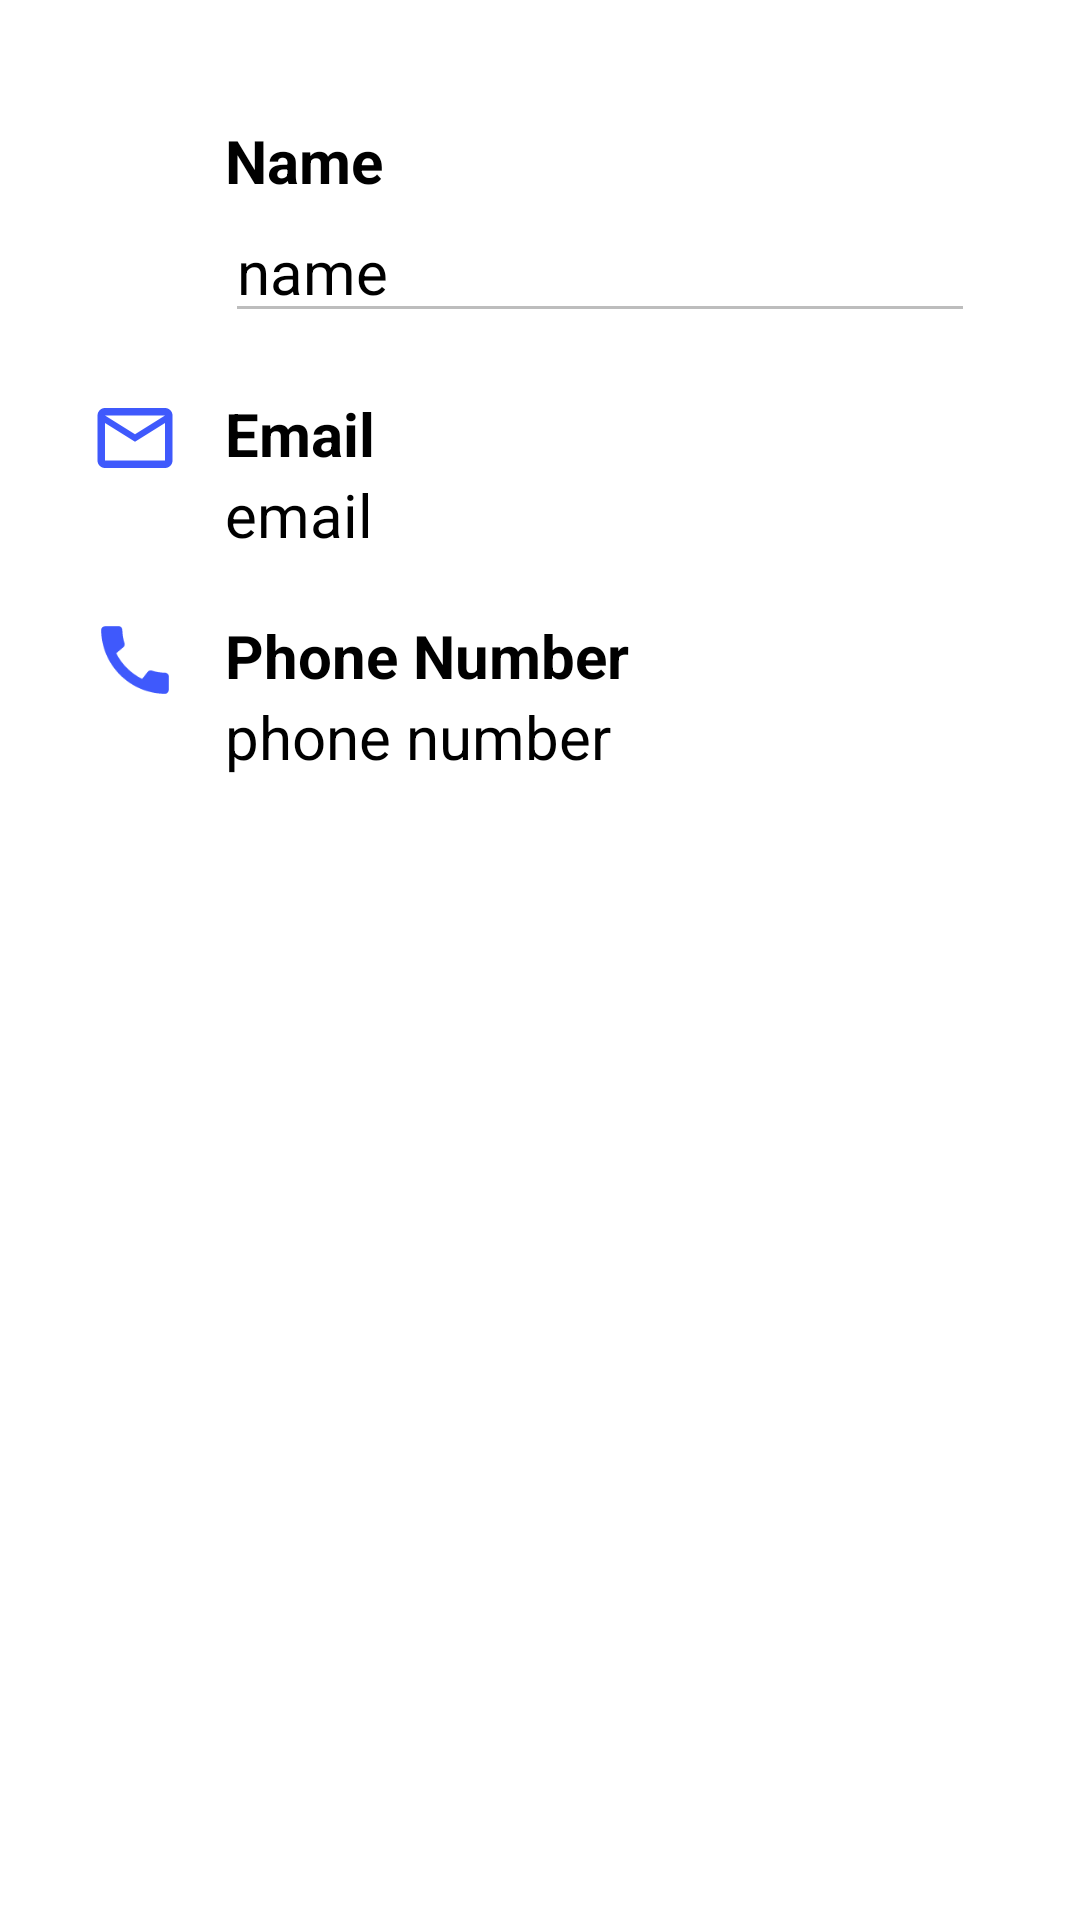

Where icons sit on this 1080x1920 app screen, as [x1,y1,x2,y2]:
mobile: [101,626,169,694]
